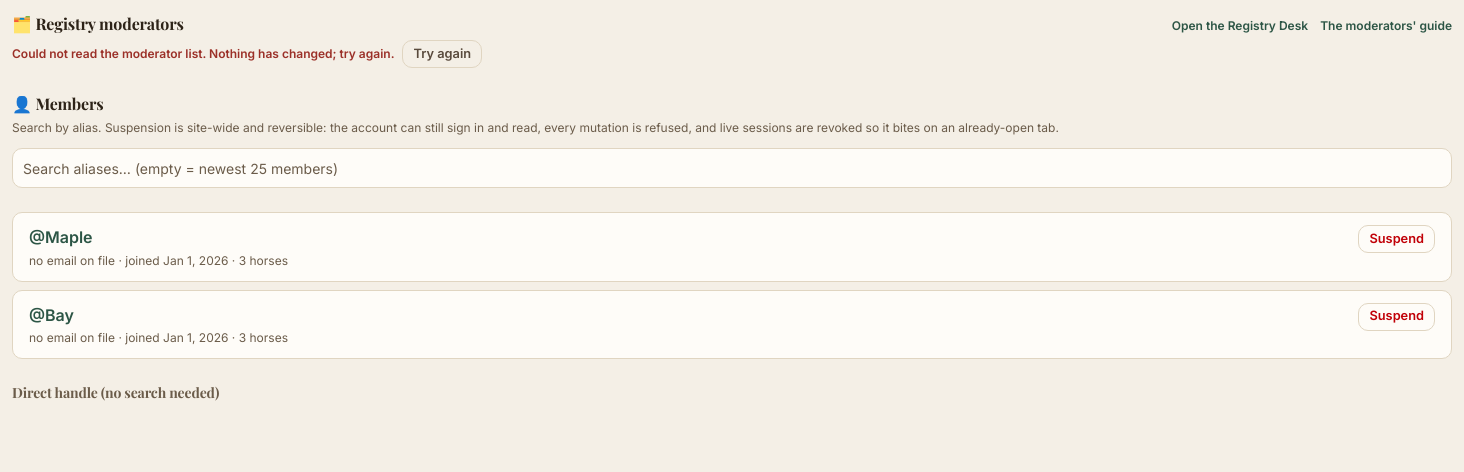
Test case: AdminMembersTab: Registry moderators › says a failed load failed, not that update 242 is missing, and can try again
Check: the link "@Bay" is shown, box [29, 303, 74, 328]
Check: the message shows "Could not read the moderator list", box [12, 46, 394, 61]
Click the button "Try again": (442, 54) [402, 40, 482, 68]
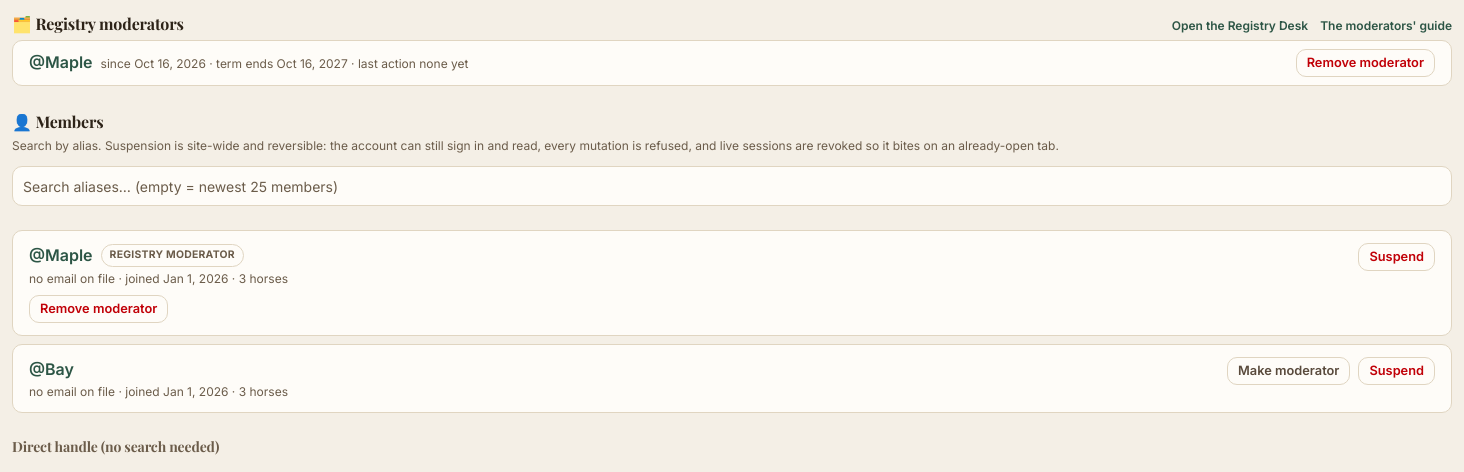
Check: the message "Could not read the moderator list. Nothing has changed; try again. Try again" is gone
